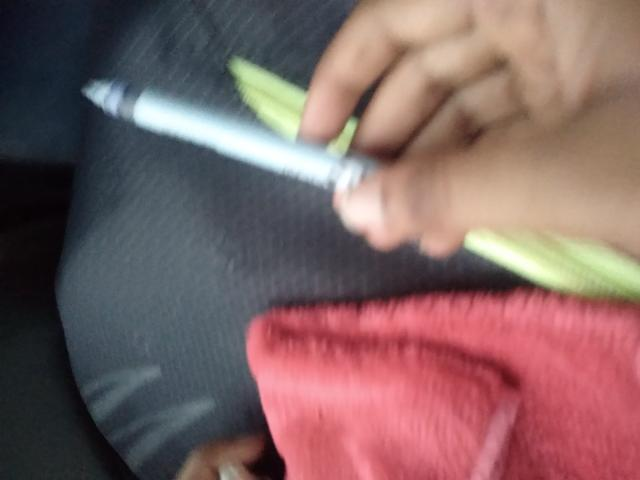PEN: (285, 85, 421, 402)
